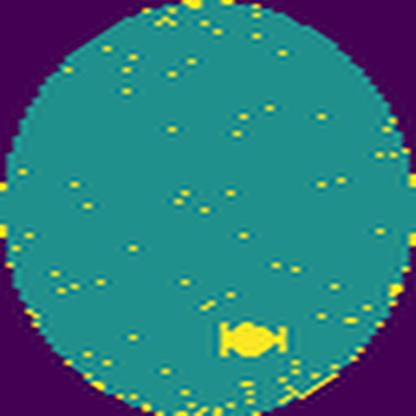Loc: (217, 314, 288, 360)
